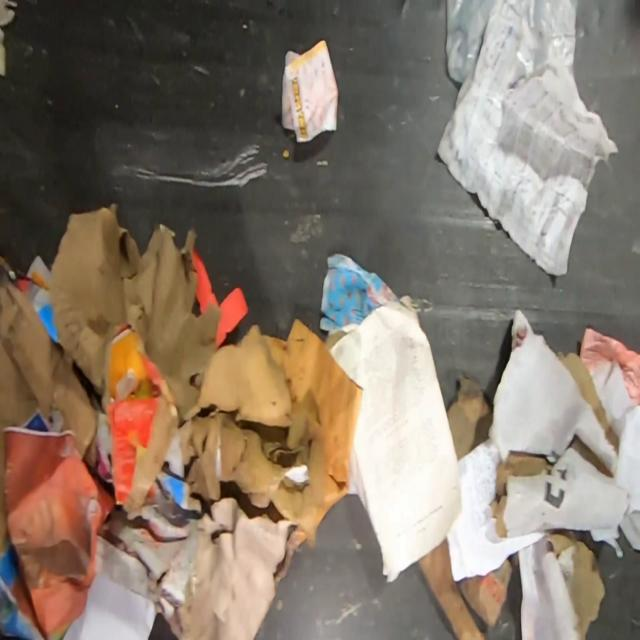cardboard: (48, 201, 364, 640), (484, 351, 630, 543), (0, 252, 100, 461), (415, 533, 513, 640), (540, 532, 604, 640), (444, 373, 492, 462)
soft_plastic: (445, 0, 580, 84)
